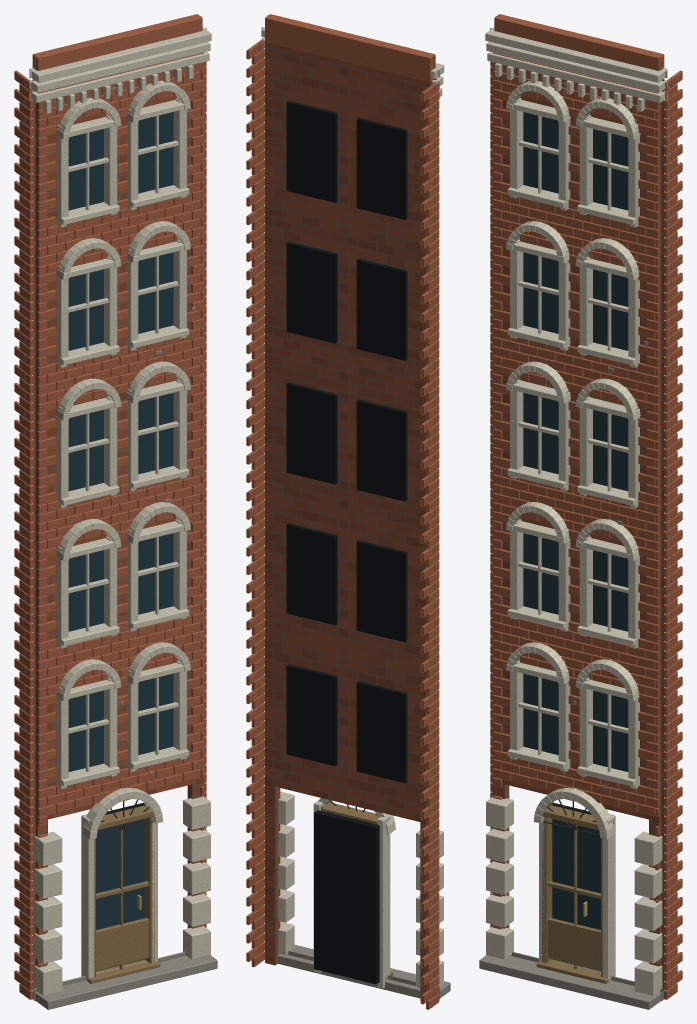
File: OFFC2_lod0.glb
3 views of the same model, side by side, from view 1: azimuth 30°, elevation 25°; view 2: azimuth 150°, elevation 25°; view 3: azimuth 330°, elevation 25° (orthographic).
Visible parts, largest first — view 1: OFFC2_FRONT_LOD0; view 2: OFFC2_FRONT_LOD0; view 3: OFFC2_FRONT_LOD0.
Part boxes in pixels (x1,y1,x2,y2): OFFC2_FRONT_LOD0: (14,14,217,1009); OFFC2_FRONT_LOD0: (246,14,450,1009); OFFC2_FRONT_LOD0: (479,14,682,1009).
Size of the model in its own units: 3.44 by 17.45 by 1.02.
Materials: 12 (9 with a texture image).
